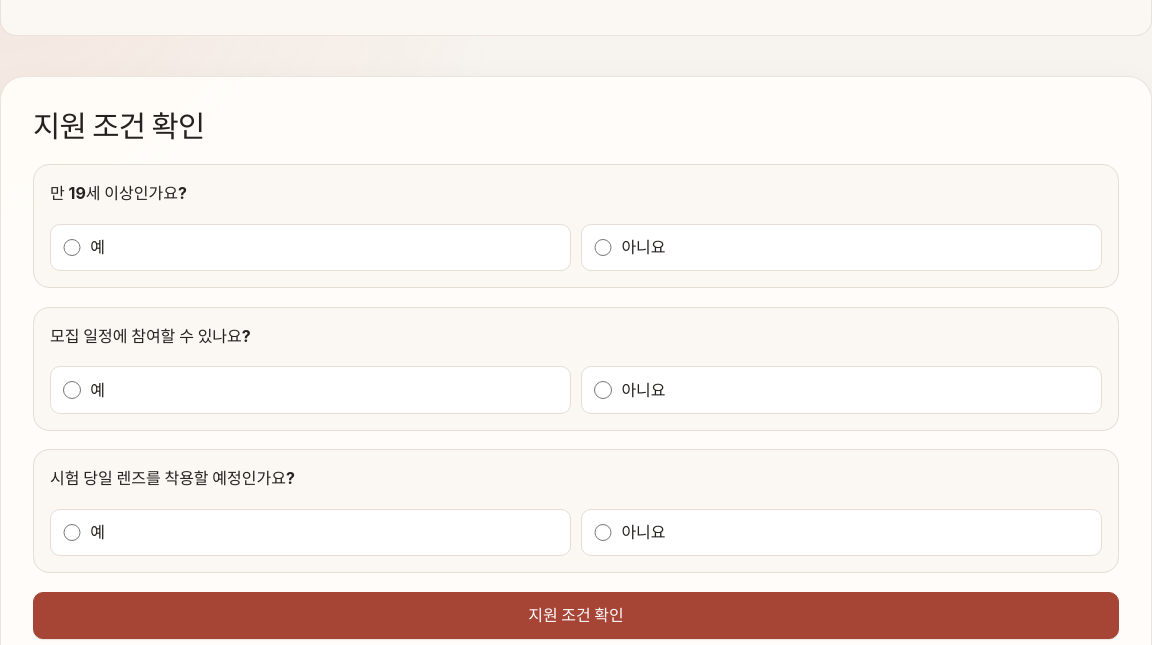
explains photo timing without showing an unusable upload before contact consent
Click the radio button labelled "예" below "만 19세 이상인가요?".
click(72, 248)  # box [63,239,81,256]
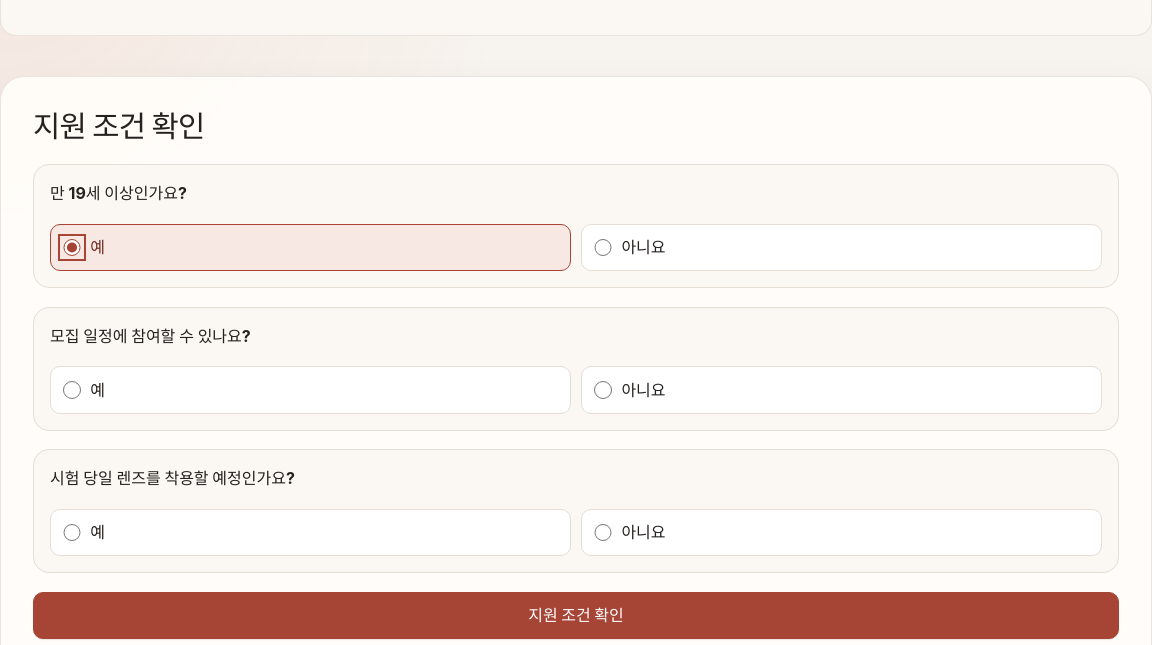
Click the radio button labelled "예" below "모집 일정에 참여할 수 있나요?".
click(72, 390)  # box [63,381,81,399]
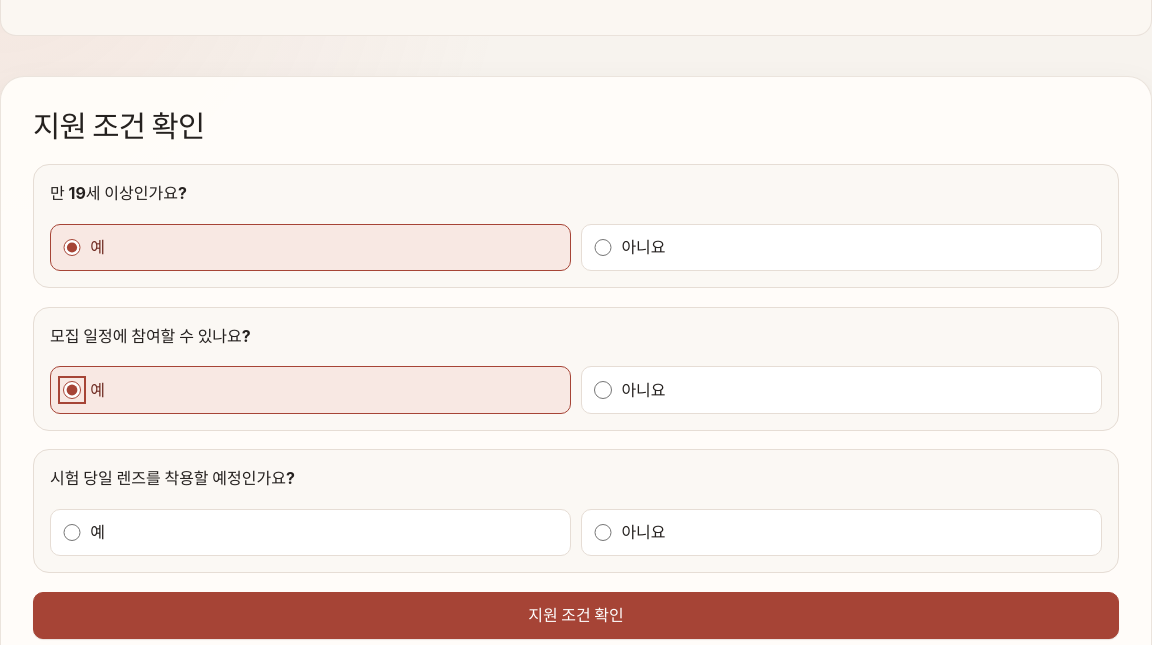
Click the 3rd radio button labelled "아니요".
click(603, 532)  # box [594,524,612,541]
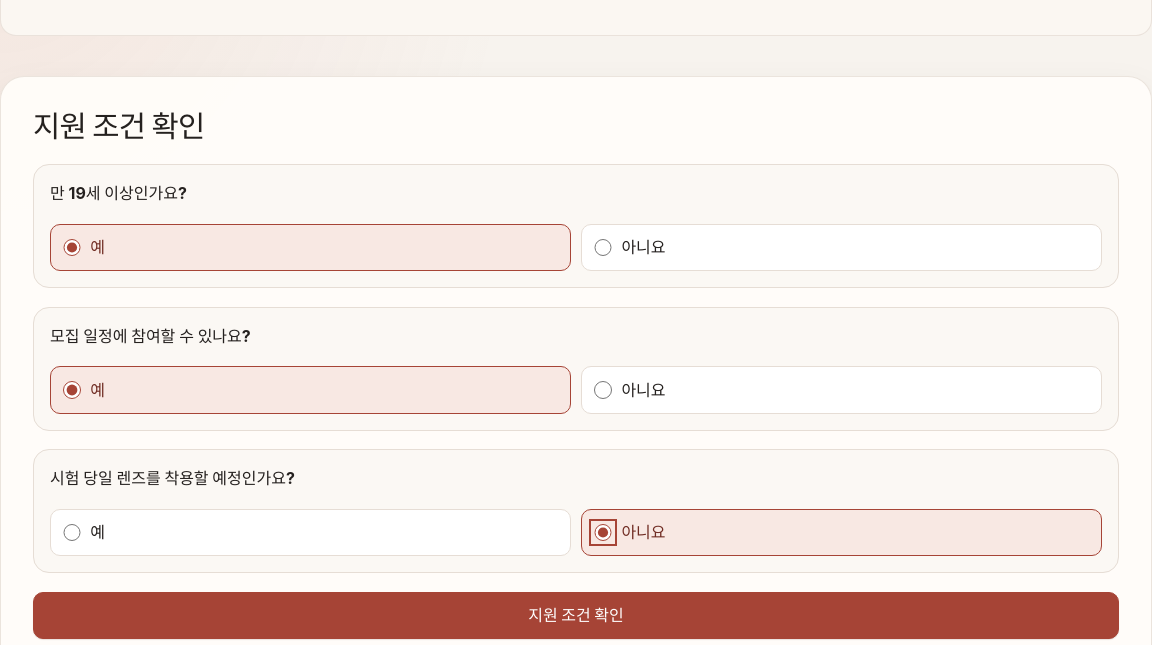
Click the button "지원 조건 확인".
click(576, 615)  # box [33,592,1119,639]
(page scrolled)
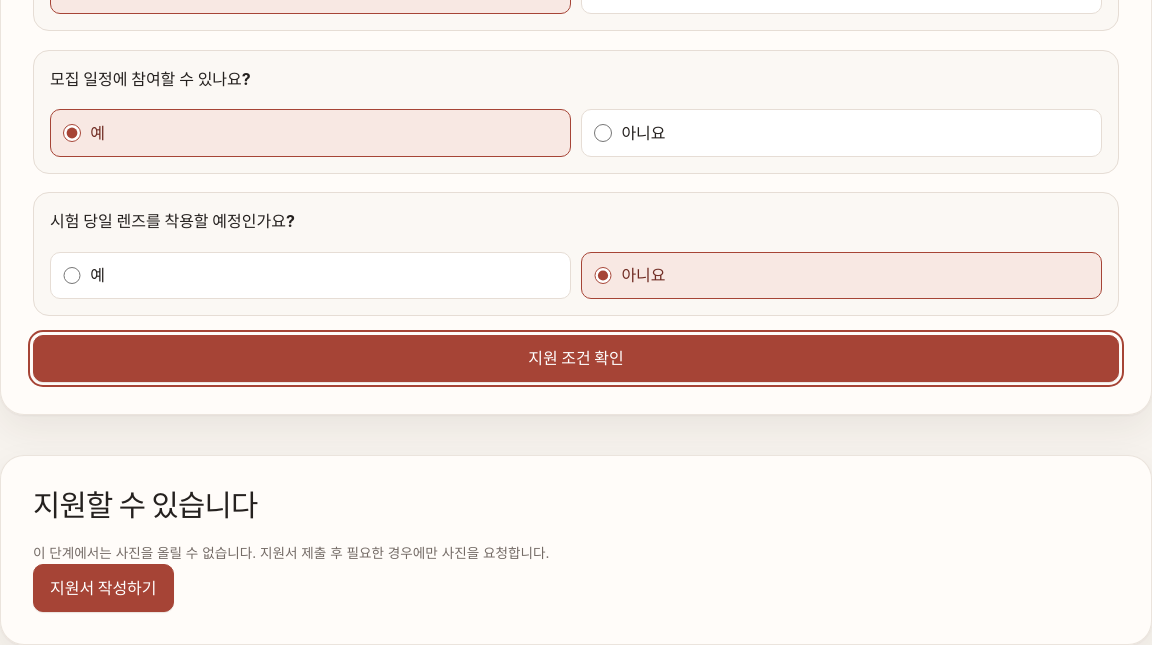
Expected: the field labelled "이름 또는 별명" is not shown
Expected: the text "이 단계에서는 사진을 올릴 수 없습니다. 지원서 제출 후 필요한 경우에만 사진을 요청합니다." is shown, [33,545,550,561]
Click the button "지원서 작성하기".
click(103, 588)  # box [33,564,174,612]
(page scrolled)
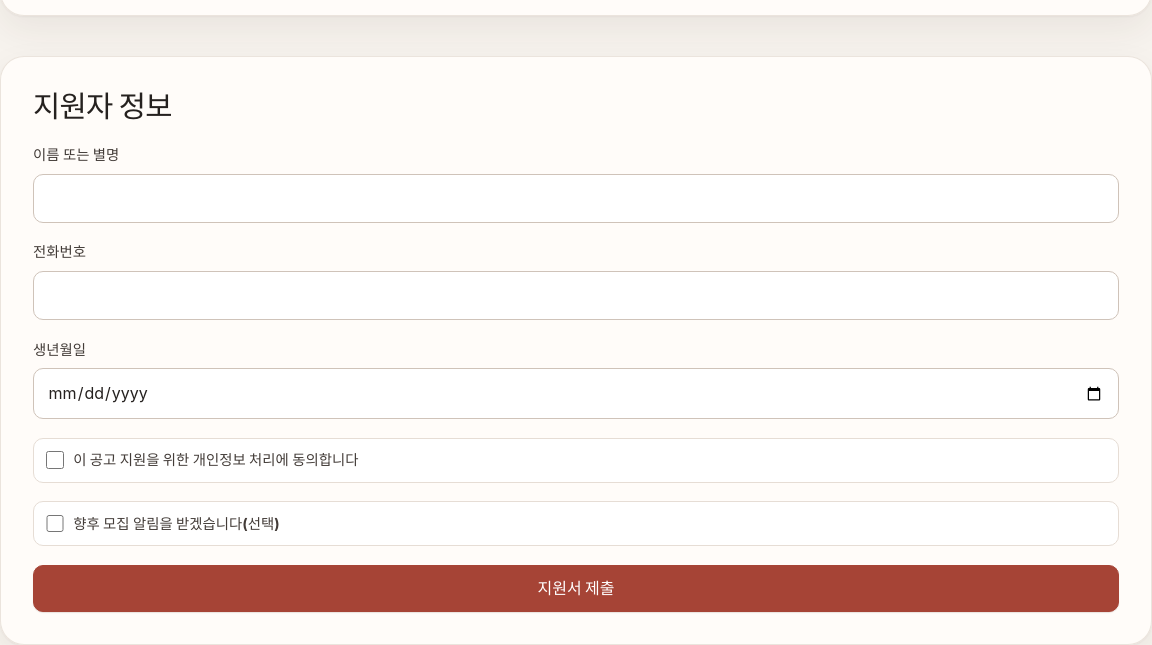
Expected: the field labelled "이름 또는 별명" is shown, [33,174,1119,223]
Expected: the checkbox labelled "이 공고 지원을 위한 개인정보 처리에 동의합니다" is shown, [46,451,64,469]
